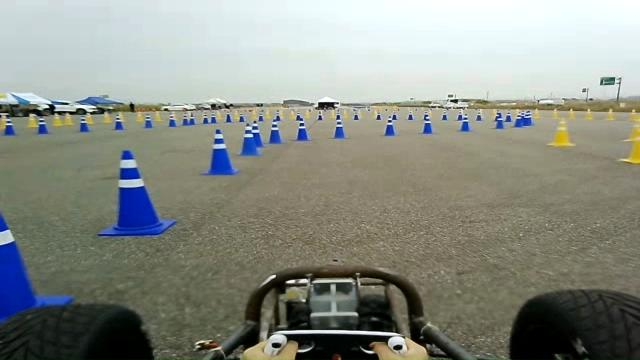blue cone: (97, 150, 176, 236), (201, 128, 239, 175), (238, 123, 261, 156), (332, 103, 348, 138), (250, 121, 264, 148), (268, 121, 284, 144), (295, 122, 311, 140), (383, 118, 396, 136), (421, 121, 434, 134), (459, 120, 471, 132), (494, 119, 505, 129)
yellow cone: (622, 109, 640, 164), (546, 119, 575, 147)
